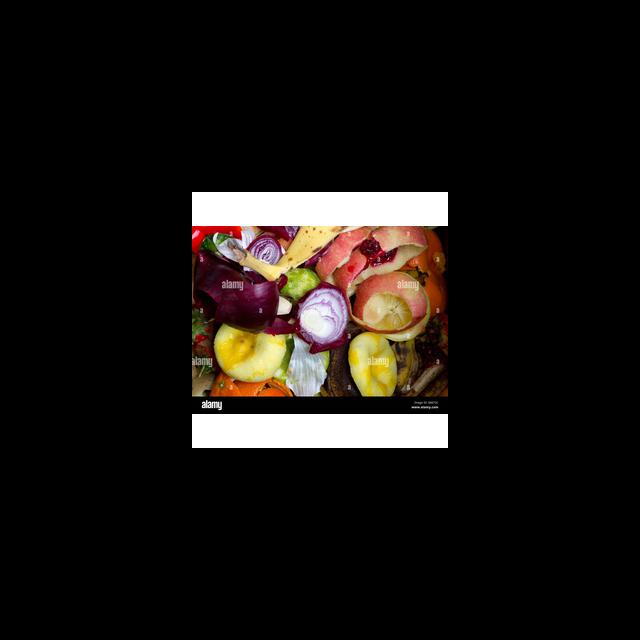food_waste: (193, 227, 447, 396)
